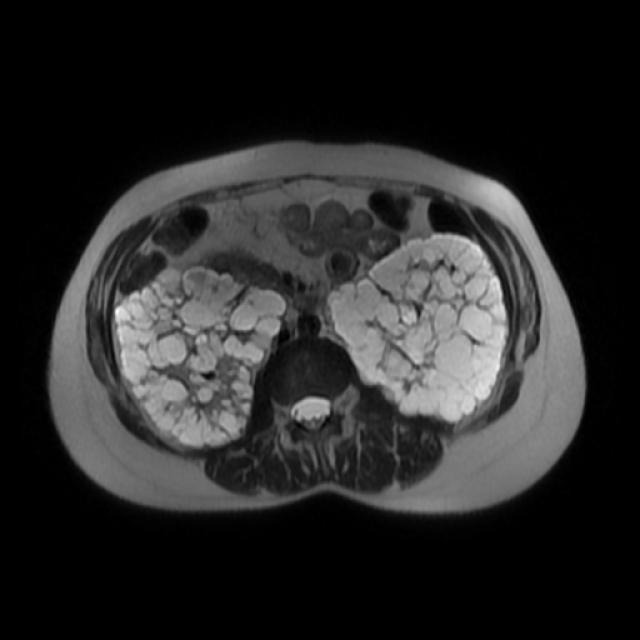sag: (114, 264, 289, 454)
sol: (321, 232, 512, 423)
